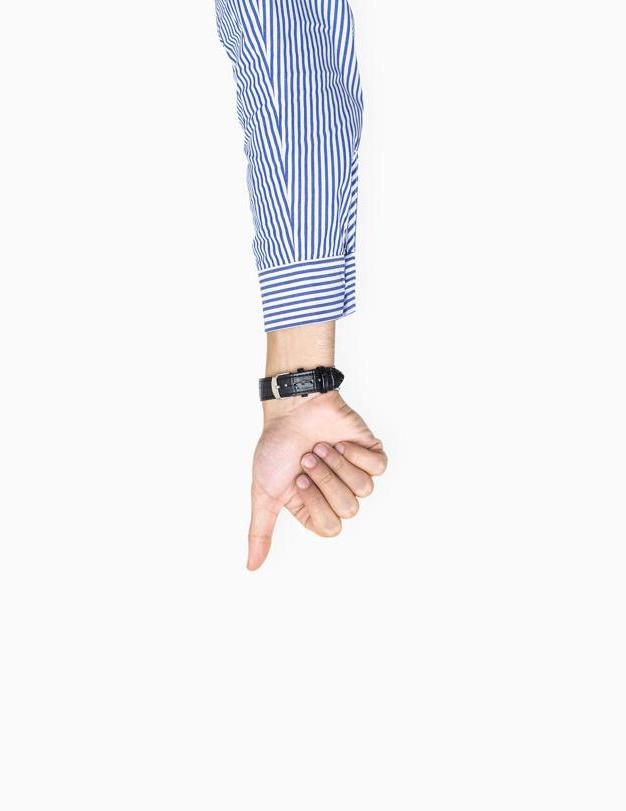thumbsdown: (247, 437, 387, 572)
